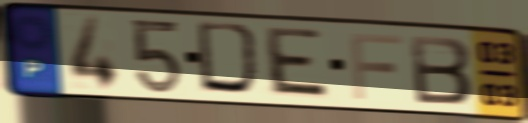4: (66, 13, 122, 94)
5: (127, 16, 183, 95)
B: (406, 32, 475, 106)
D: (194, 19, 267, 100)
E: (265, 24, 333, 103)
F: (347, 30, 407, 102)
